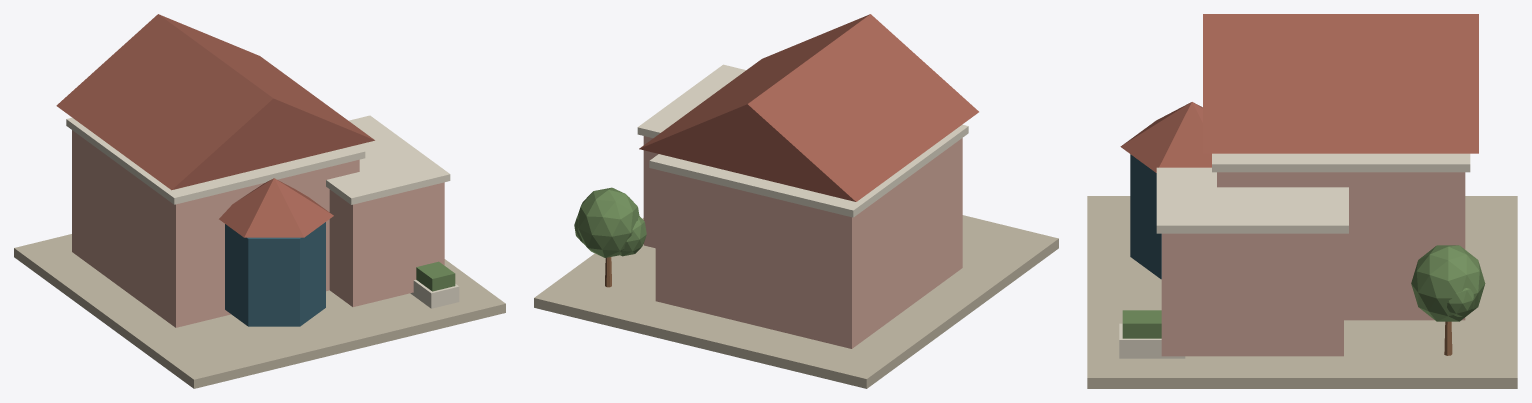
Rendered from rose-house_lod.glb.
3 views of the same model, side by side, from view 1: azimuth 30°, elevation 25°; view 2: azimuth 150°, elevation 25°; view 3: azimuth 270°, elevation 25° (orthographic). The views are drawn at different scales.
Parts seen in each view (by area): view 1: rose_house_Gable_Roof, rose_house_Site_Paving, rose_house_Building_Volume, rose_house_Building_Volume.001, rose_house_Bay_Window, rose_house_Roof_Coping.001, rose_house_Roof_Coping, rose_house_Bay_Roof, rose_house_Hedge, rose_house_Raised_Planter; view 2: rose_house_Building_Volume, rose_house_Gable_Roof, rose_house_Site_Paving, rose_house_Roof_Coping, rose_house_Tree_Crown, rose_house_Roof_Coping.001, rose_house_Building_Volume.001, rose_house_Tree_Crown.001; view 3: rose_house_Gable_Roof, rose_house_Site_Paving, rose_house_Building_Volume.001, rose_house_Building_Volume, rose_house_Roof_Coping.001, rose_house_Roof_Coping, rose_house_Tree_Crown, rose_house_Bay_Roof, rose_house_Bay_Window, rose_house_Hedge, rose_house_Raised_Planter, rose_house_Tree_Crown.002.
Part boxes in pixels (x1,y1,x2,y2): rose_house_Gable_Roof: (56, 14, 374, 190); rose_house_Site_Paving: (14, 234, 505, 388); rose_house_Building_Volume: (72, 130, 359, 327); rose_house_Building_Volume.001: (329, 182, 444, 306); rose_house_Bay_Window: (225, 222, 325, 326); rose_house_Roof_Coping.001: (326, 115, 450, 204); rose_house_Roof_Coping: (66, 117, 365, 204); rose_house_Bay_Roof: (219, 178, 333, 237); rose_house_Hedge: (416, 261, 455, 291); rose_house_Raised_Planter: (410, 280, 459, 308); rose_house_Building_Volume: (655, 138, 962, 348); rose_house_Gable_Roof: (639, 14, 978, 201); rose_house_Site_Paving: (534, 215, 1058, 388); rose_house_Roof_Coping: (649, 124, 968, 217); rose_house_Tree_Crown: (577, 187, 639, 257); rose_house_Roof_Coping.001: (637, 64, 745, 138); rose_house_Building_Volume.001: (643, 136, 658, 248); rose_house_Tree_Crown.001: (619, 216, 646, 256); rose_house_Gable_Roof: (1203, 14, 1478, 153); rose_house_Site_Paving: (1087, 196, 1517, 388); rose_house_Building_Volume.001: (1161, 233, 1343, 356); rose_house_Building_Volume: (1217, 172, 1465, 320); rose_house_Roof_Coping.001: (1156, 167, 1348, 233); rose_house_Roof_Coping: (1212, 153, 1470, 172); rose_house_Tree_Crown: (1411, 245, 1485, 321); rose_house_Bay_Roof: (1120, 102, 1211, 172); rose_house_Bay_Window: (1130, 154, 1161, 279); rose_house_Hedge: (1122, 310, 1161, 338); rose_house_Raised_Planter: (1119, 323, 1185, 358); rose_house_Tree_Crown.002: (1447, 288, 1474, 316).
Size of the model in its own units: 7.8 by 5.35 by 7.8.
